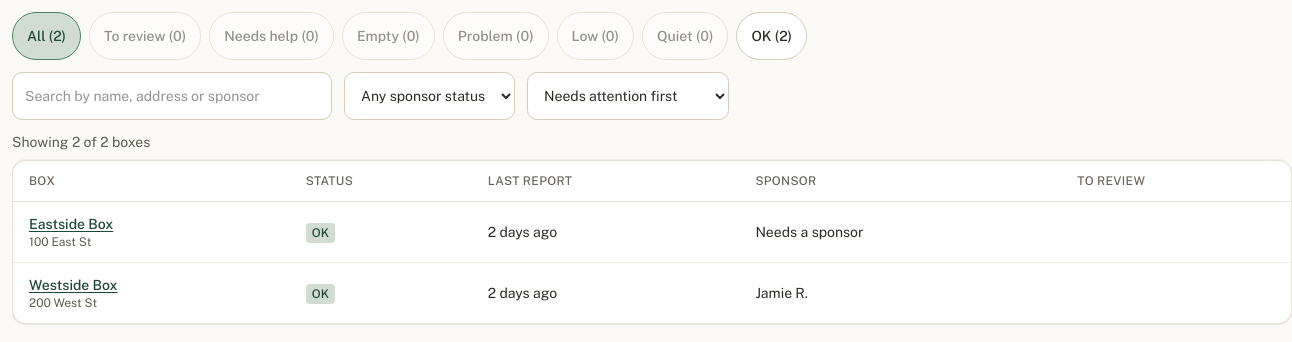
Test: AllBoxesTable — search › matches by name
This screenshot has width=1292, height=342.
Type "eastside" into the field named "Search boxes" at (172, 96), box [12,72,332,120]
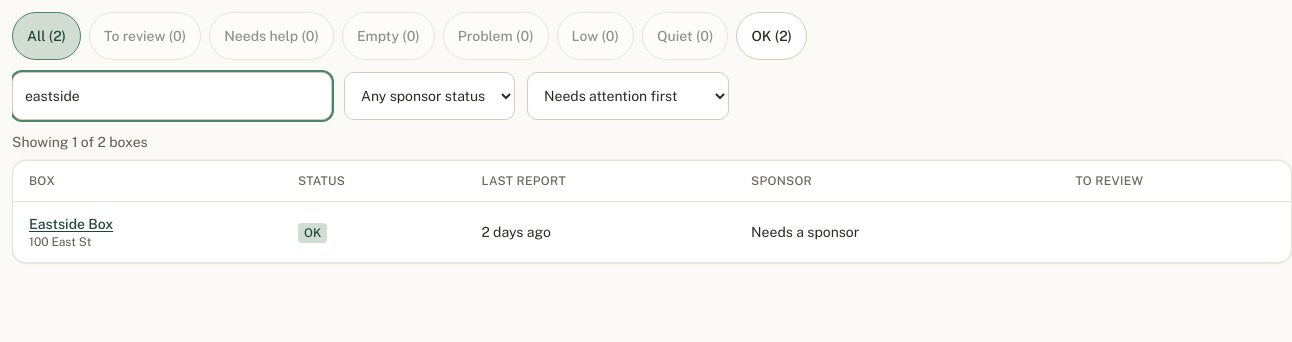
Expected: the link "Eastside Box" is shown, [29,216,113,232]
Expected: the link "Westside Box" is gone
